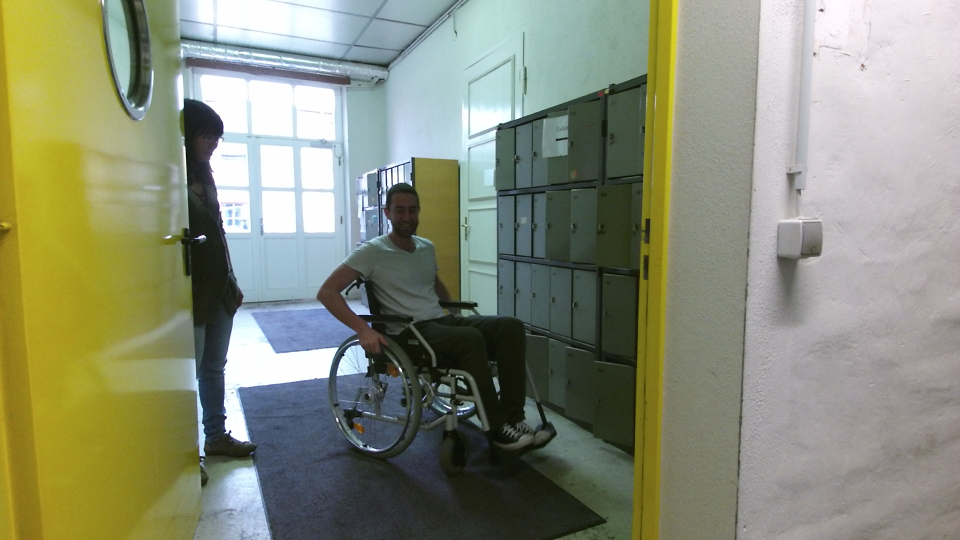wheelchair: (311, 176, 541, 461)
